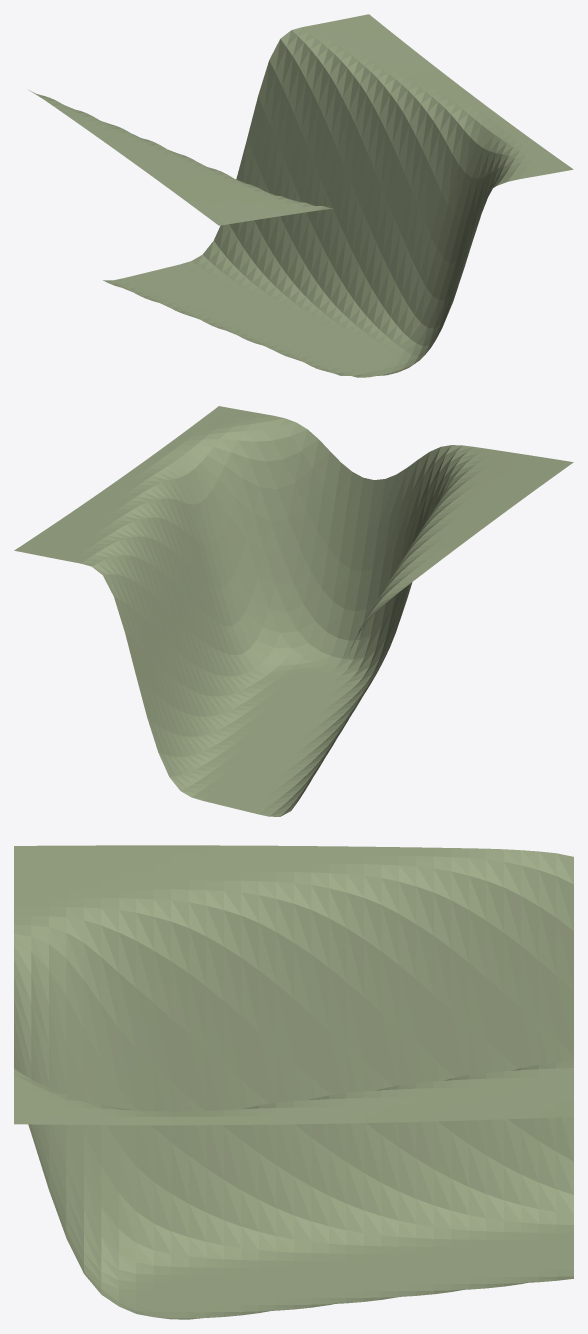
Rendered from canyon-2-5.glb.
3 renders of one model, top to bottom at view 1: azimuth 30°, elevation 25°; view 2: azimuth 150°, elevation 25°; view 3: azimuth 270°, elevation 25°, orthographic. The views are drawn at different scales.
Visible parts, largest first — view 1: canyon-2-5; view 2: canyon-2-5; view 3: canyon-2-5.
Part boxes in pixels (x1,y1,x2,y2): canyon-2-5: (29, 14, 573, 377); canyon-2-5: (14, 406, 573, 816); canyon-2-5: (14, 845, 573, 1319).
Size of the model in its own units: 128 by 79.11 by 128.
